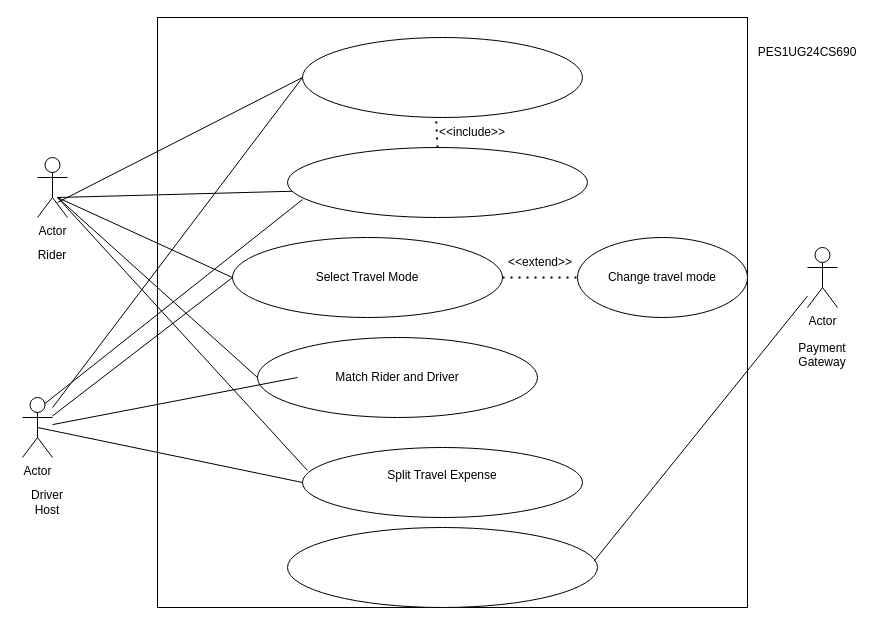
The diagram is 874 pixels wide and 625 high, and some of its shapes have lost their labels. Each missing label, with the centre of its shape:
"Calculate Best Route" belongs at pixel 442 77.
"Find Nearest Rider" belongs at pixel 437 182.
"Make Payment" belongs at pixel 442 567.
